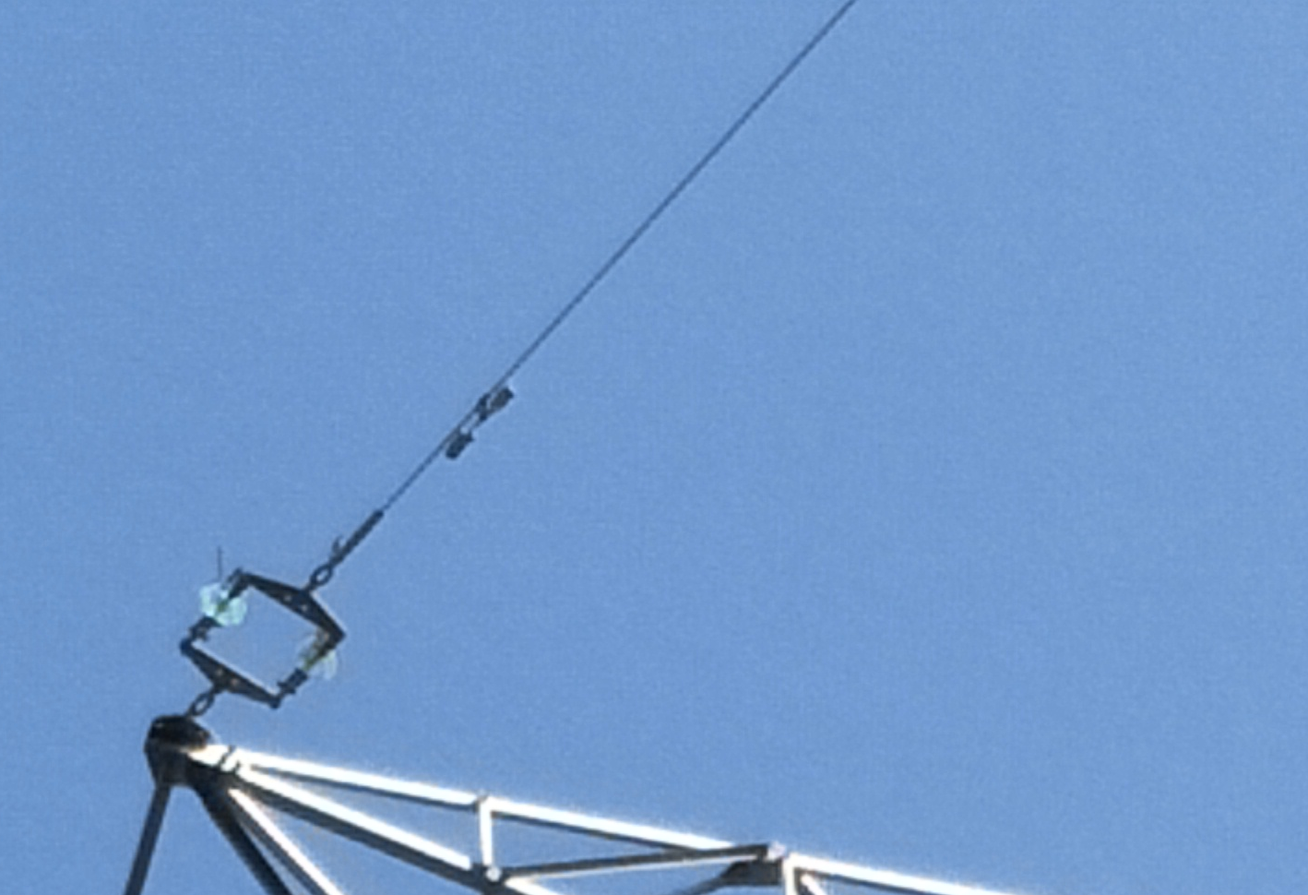damper: (444, 382, 518, 459)
